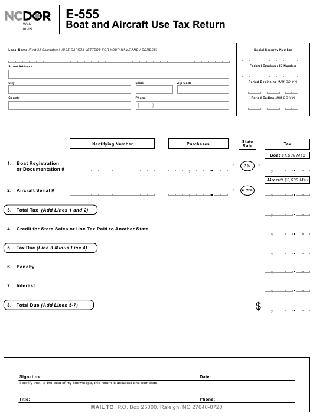textbox: (7, 69, 231, 80), (7, 99, 132, 111), (6, 84, 132, 95), (135, 99, 230, 111), (176, 84, 230, 95), (135, 84, 174, 95)
textline: (7, 57, 232, 64), (41, 373, 197, 382), (30, 395, 186, 404), (211, 372, 298, 381), (216, 395, 298, 404), (67, 189, 157, 197), (68, 165, 157, 172), (240, 56, 306, 63), (240, 72, 307, 78), (167, 165, 212, 173), (167, 190, 212, 197), (262, 164, 293, 173), (263, 209, 294, 217), (263, 229, 294, 237), (264, 248, 295, 256), (263, 285, 294, 293), (263, 305, 294, 313), (264, 189, 294, 197), (264, 266, 294, 274), (295, 188, 312, 197), (295, 164, 311, 173), (295, 208, 311, 217), (295, 246, 311, 255), (295, 266, 311, 275), (294, 285, 311, 293), (295, 228, 311, 236), (295, 305, 311, 313), (213, 165, 230, 172), (246, 89, 262, 95), (265, 89, 281, 95), (284, 89, 300, 95), (213, 190, 229, 196), (284, 105, 300, 110), (265, 105, 281, 110), (246, 105, 262, 110)
